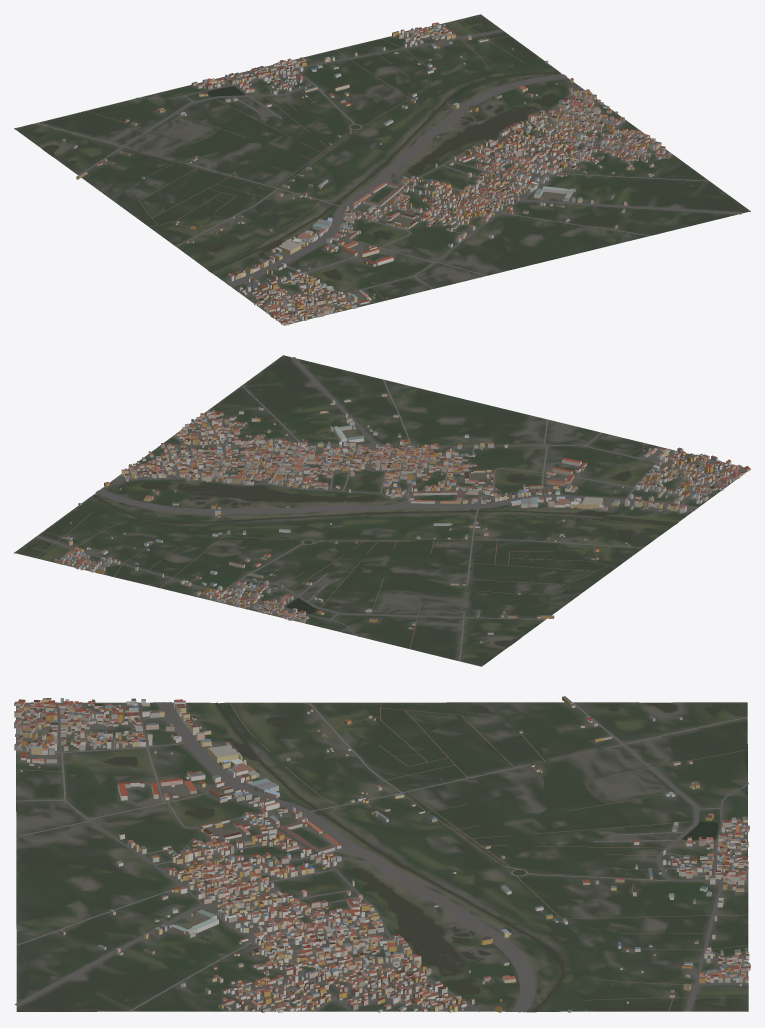
The picture shows the model from 3 angles, top to bottom: view 1: azimuth 30°, elevation 25°; view 2: azimuth 150°, elevation 25°; view 3: azimuth 270°, elevation 25°; orthographic projection. The views are drawn at different scales.
Parts seen in each view (by area): view 1: ground, buildings, roads, water; view 2: ground, buildings, roads, water; view 3: ground, buildings, roads, water.
Boxes of the visible parts, bbox=[...] form: ground: bbox=[14, 14, 750, 325]; buildings: bbox=[62, 22, 671, 325]; roads: bbox=[14, 19, 741, 321]; water: bbox=[35, 72, 573, 279]; ground: bbox=[14, 355, 750, 666]; buildings: bbox=[54, 393, 750, 643]; roads: bbox=[35, 357, 745, 666]; water: bbox=[92, 424, 677, 656]; ground: bbox=[16, 702, 748, 1012]; buildings: bbox=[14, 696, 750, 1012]; roads: bbox=[14, 702, 748, 1012]; water: bbox=[75, 702, 719, 1012].
Bounding box in the file's own units: 1423 × 24.35 × 1412.
